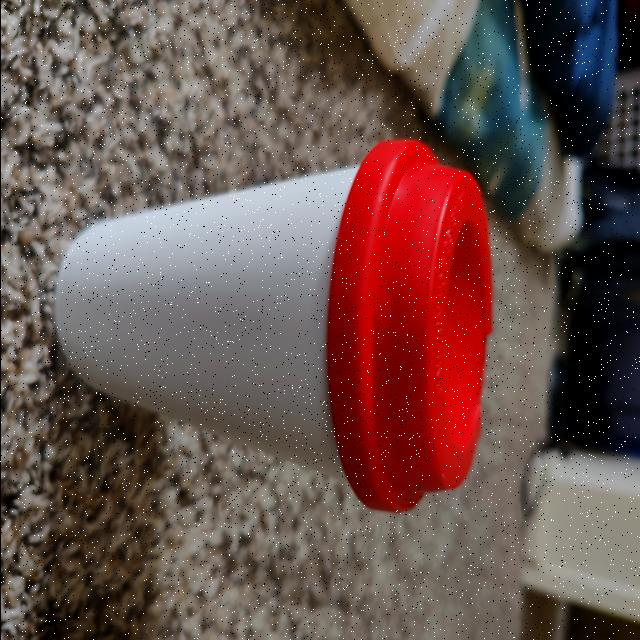mug: (56, 134, 496, 508)
